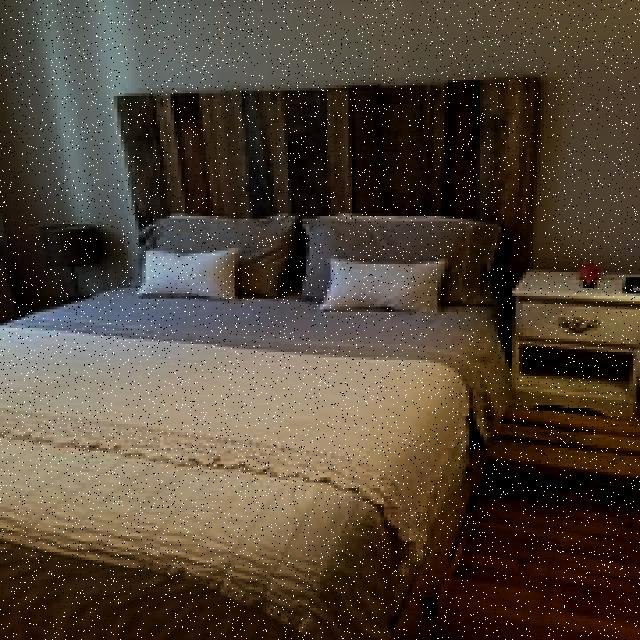bed: (0, 187, 518, 640)
